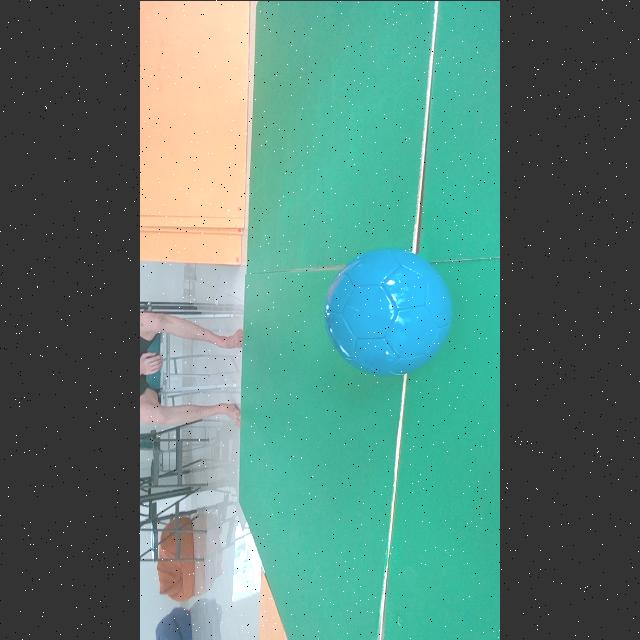B: (324, 248, 451, 375)
